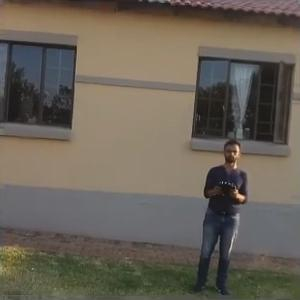follow: (186, 132, 252, 298)
